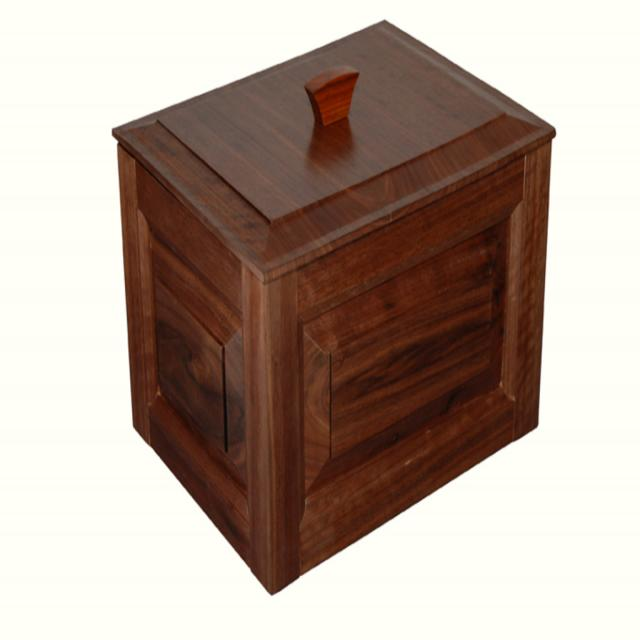Box: (111, 17, 557, 595)
